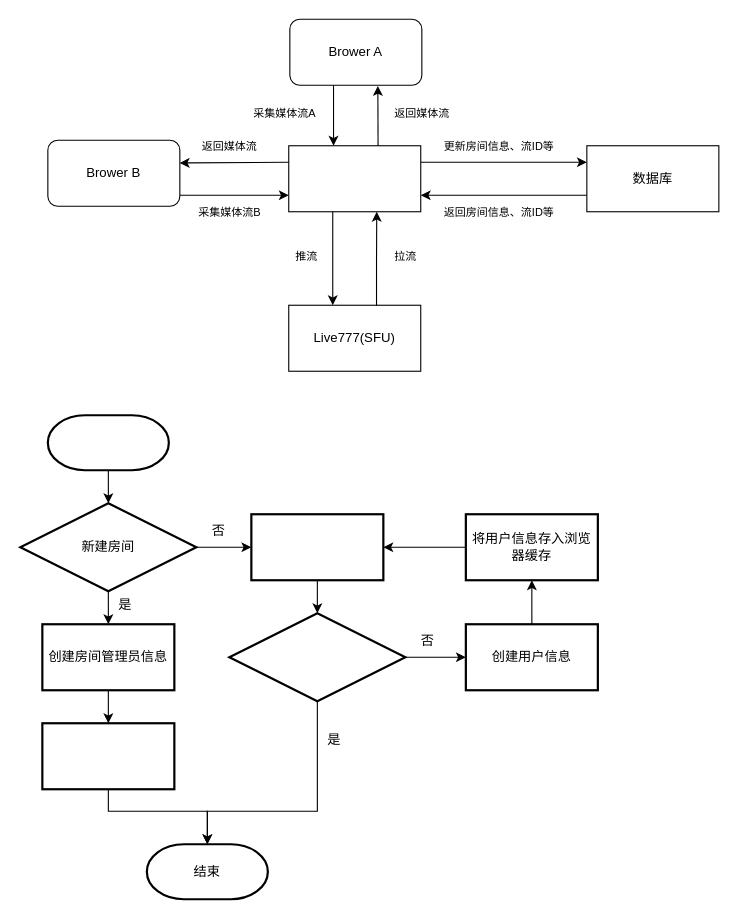
This 738x920 diagram has some shape labels left out. The centre of each missing label's shape, as x and y in pixels:
后端服务器: point (354, 178)
存在用户信息: point (317, 657)
将房间信息和管理员信息存入数据库: point (108, 756)
开始: point (107, 442)
获取浏览器缓存信息: point (317, 547)
